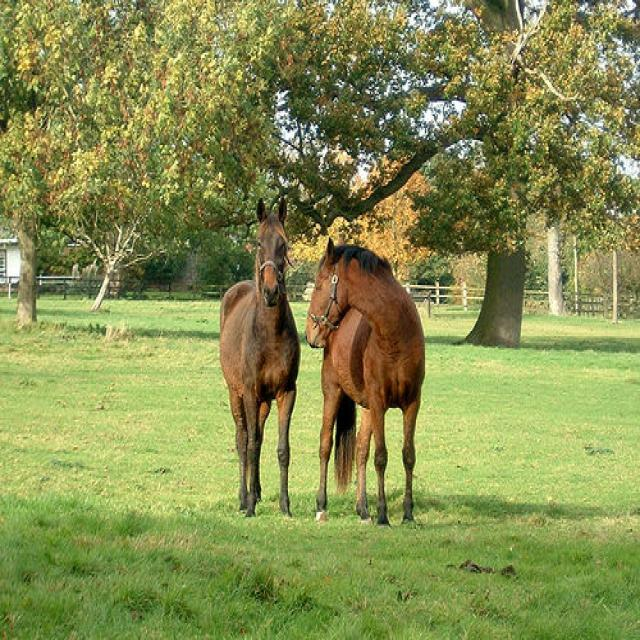horse: (304, 238, 426, 525), (219, 197, 301, 520)
